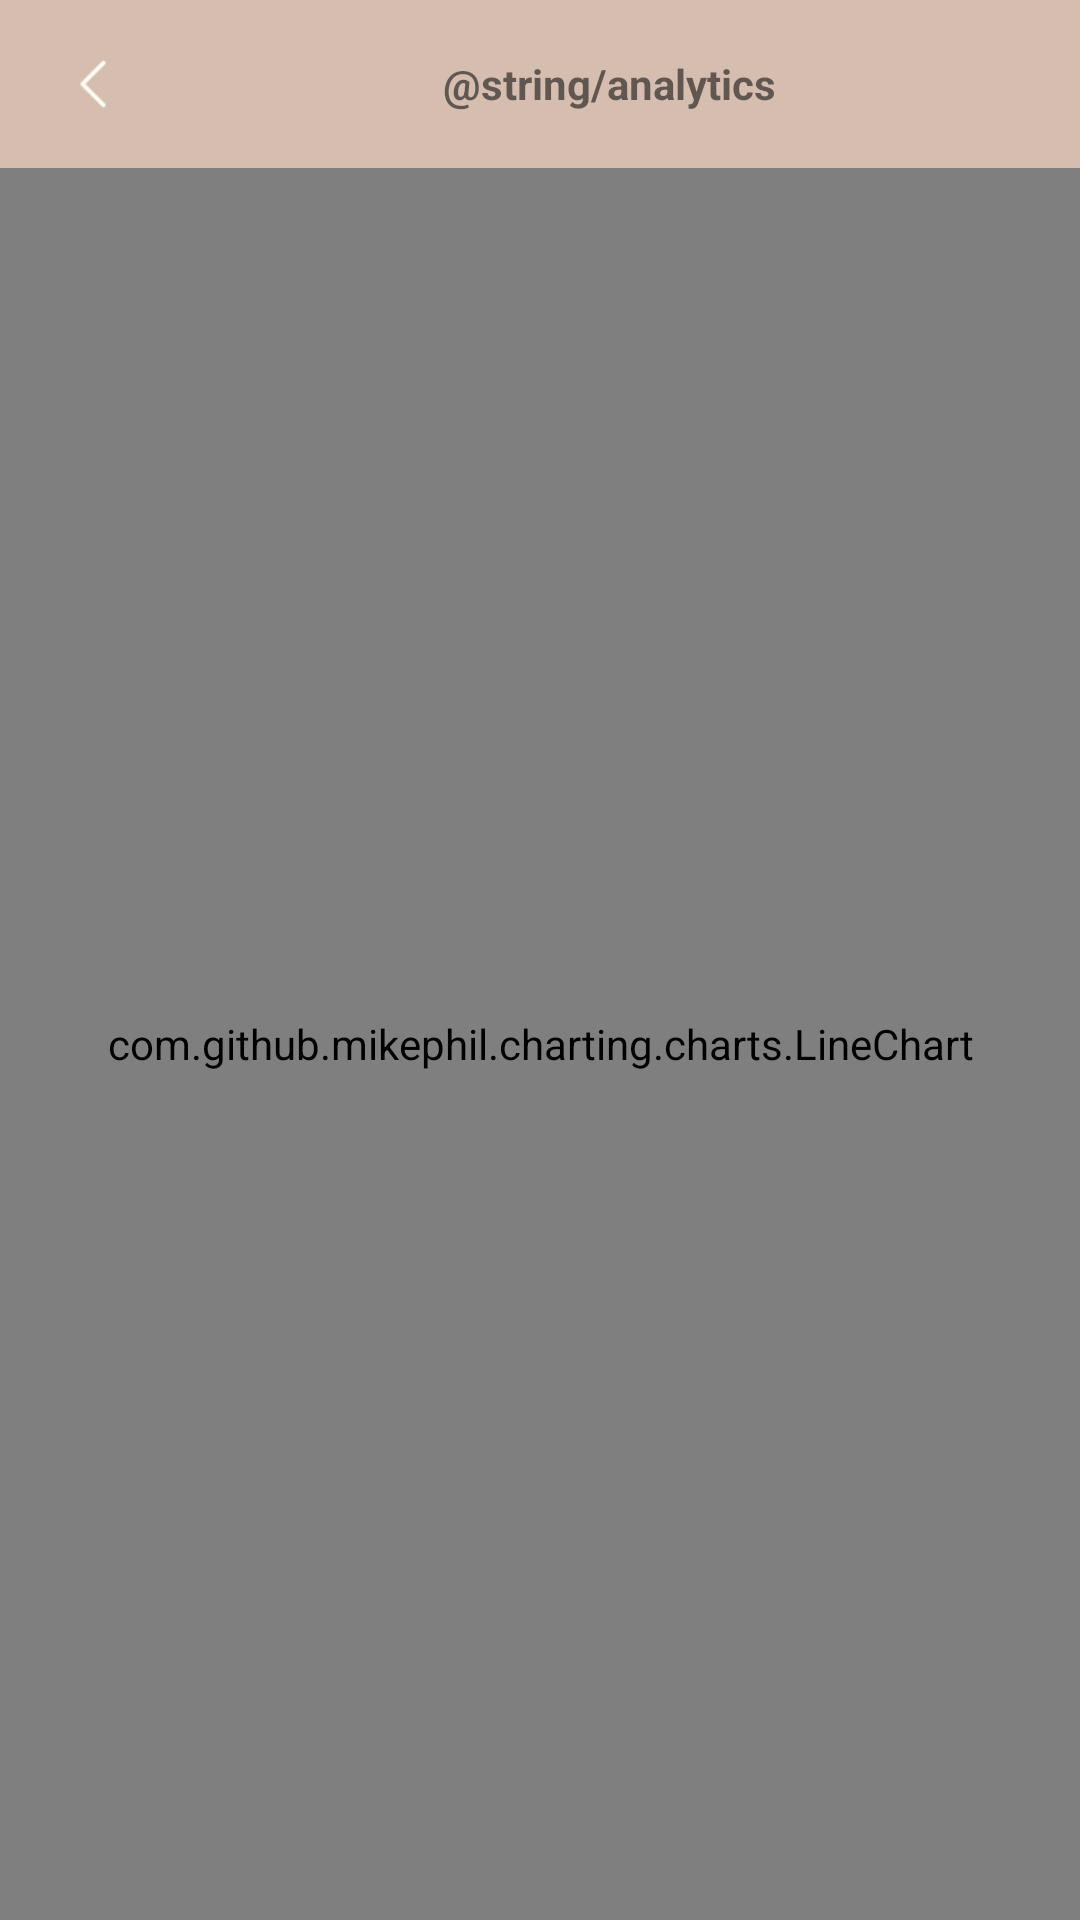

Locate icon controls on the screen. Image size 1080×1920, boxes as box=[x1, y1, x2, y2].
back: box=[80, 61, 106, 107]
